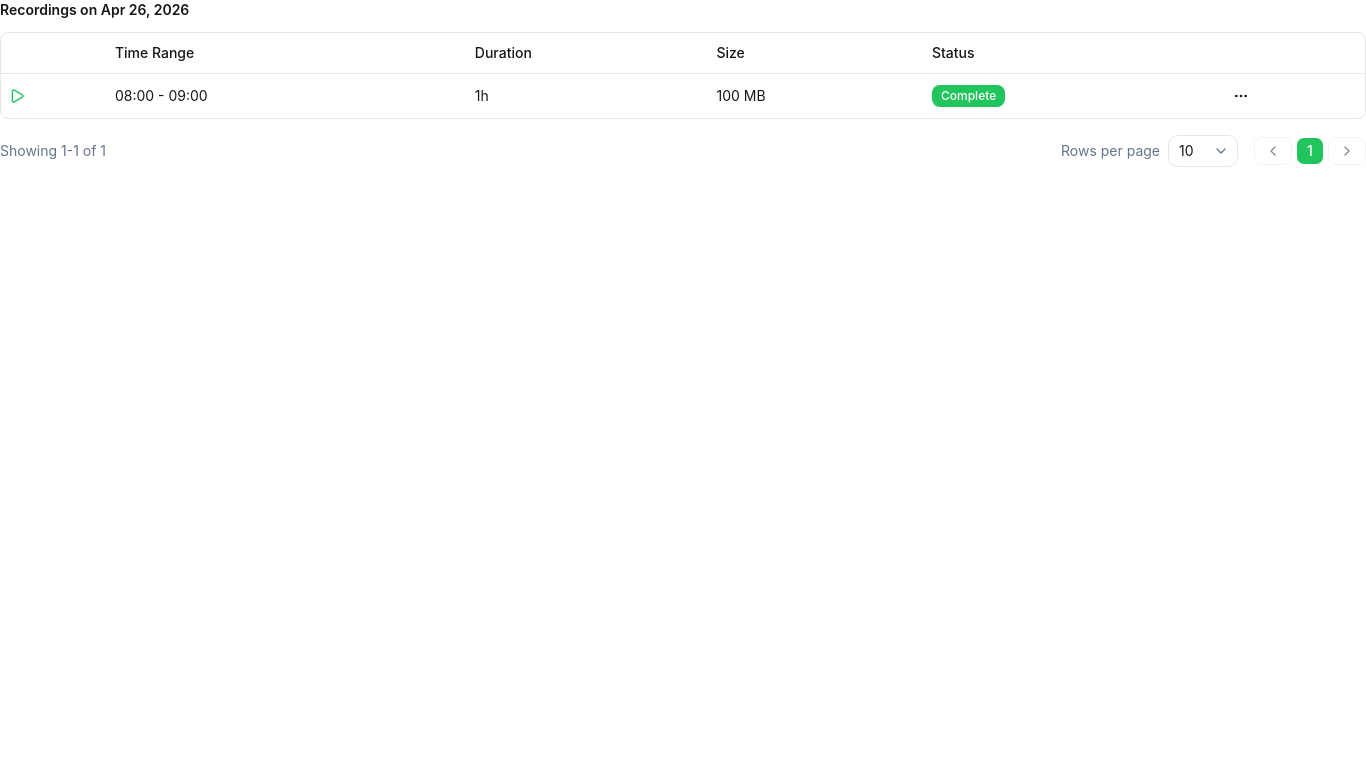
Test: RecordingsList (quick task 260426-ox9) › Delete action opens AlertDialog with specific copy (time range + size)
Click the button named "open menu" in the row of "08:00 - 09:00" at {"x": 1241, "y": 96}, box [1227,82,1255,110]
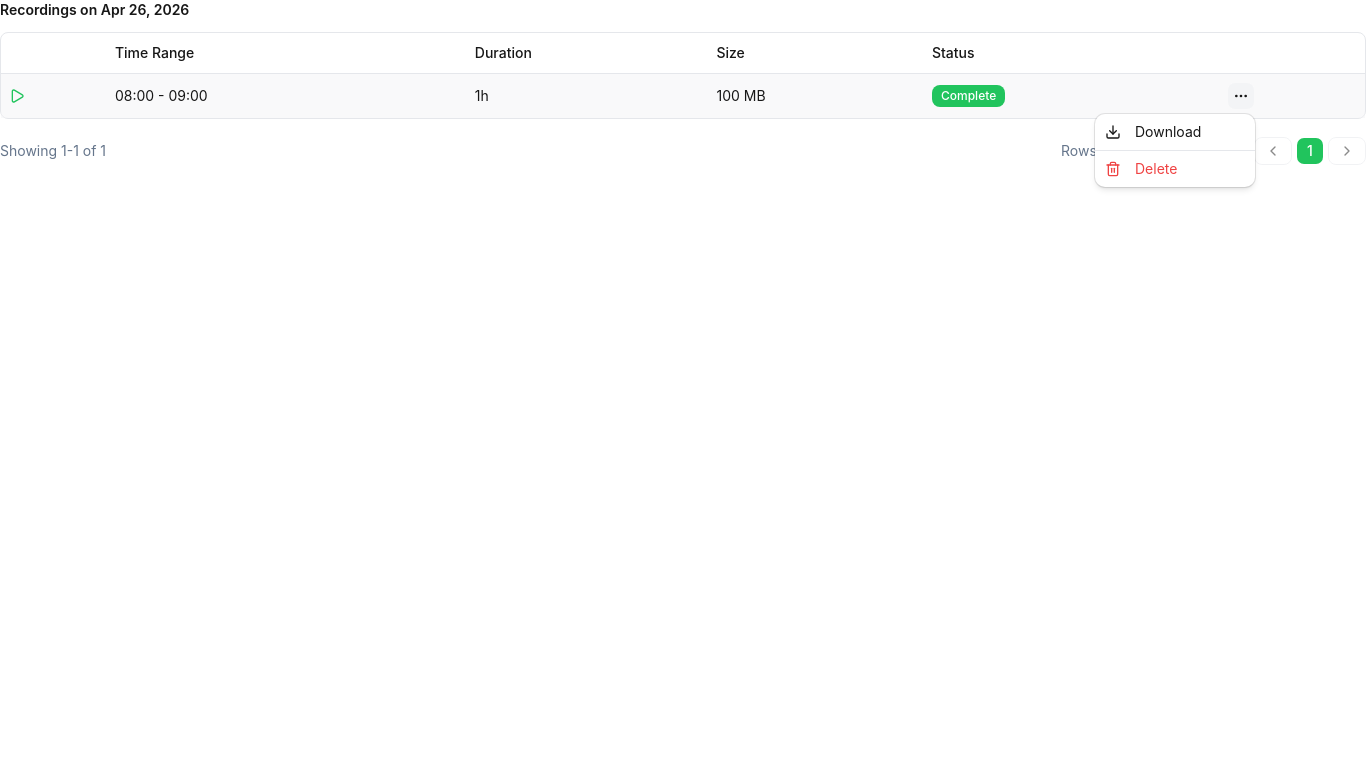
Click the menu item "Delete" at {"x": 1141, "y": 168}, box [1105,160,1177,177]
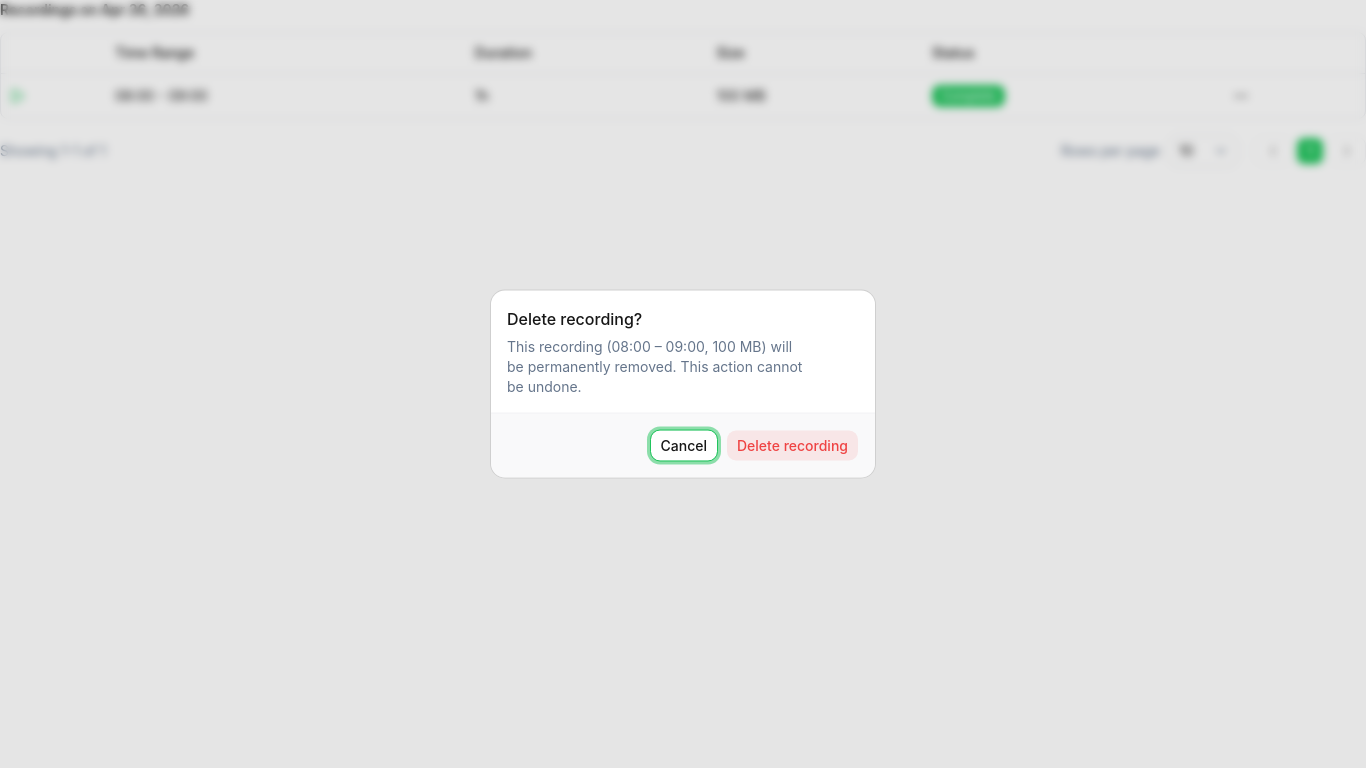
Check: the heading "Delete recording?" is shown, box [507,306,642,330]
Check: the text "will be permanently removed" shows "08:00", box [507,338,802,394]
Check: the text "will be permanently removed" shows "09:00", box [507,338,802,394]
